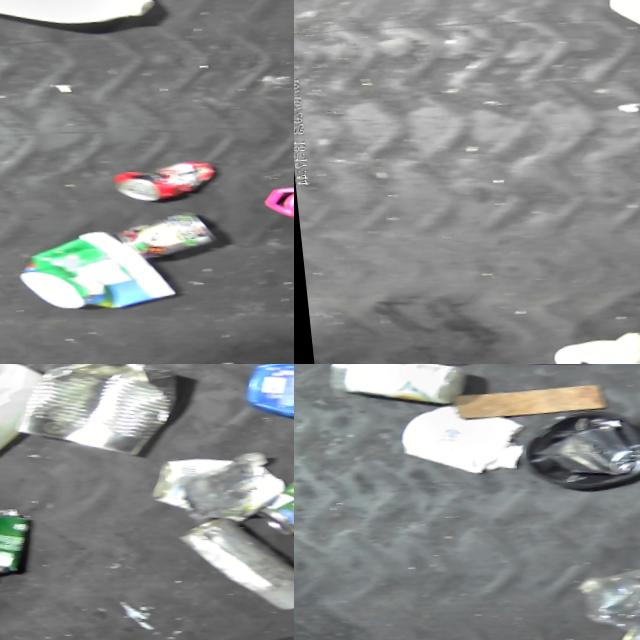can: (3, 364, 186, 466), (113, 196, 218, 259), (108, 143, 220, 201), (148, 445, 242, 510), (0, 498, 37, 583), (253, 465, 294, 534)
milk_jug: (0, 364, 53, 481)
non_white_jug: (516, 391, 640, 494), (243, 364, 294, 424)
